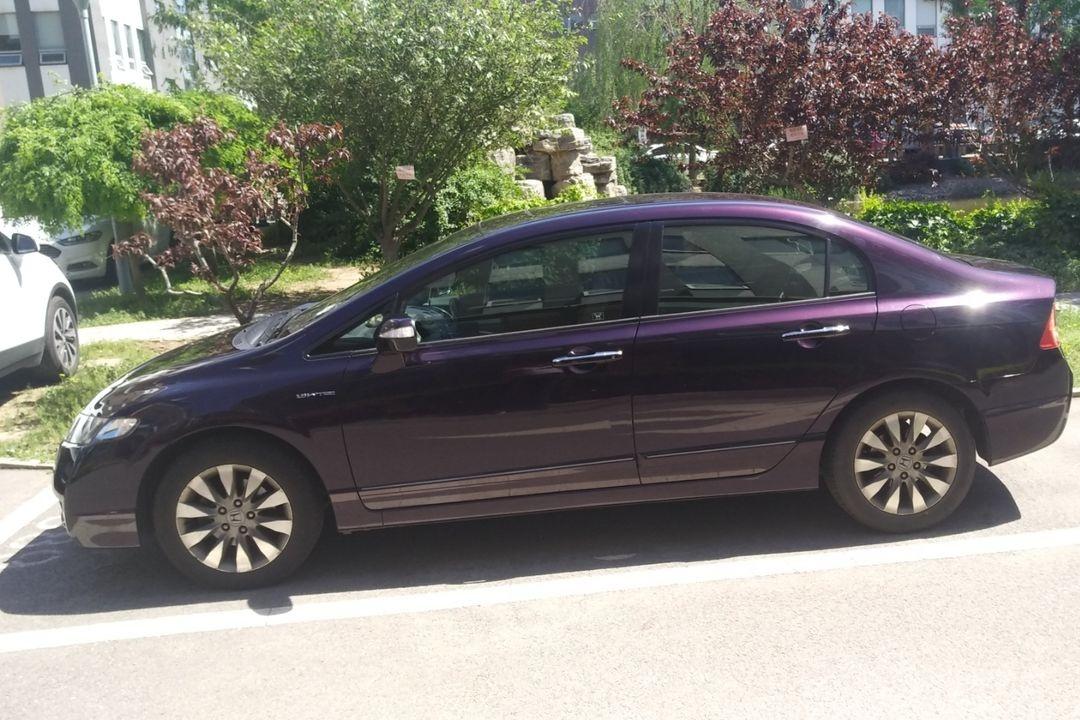family sedan: (53, 203, 1063, 570)
